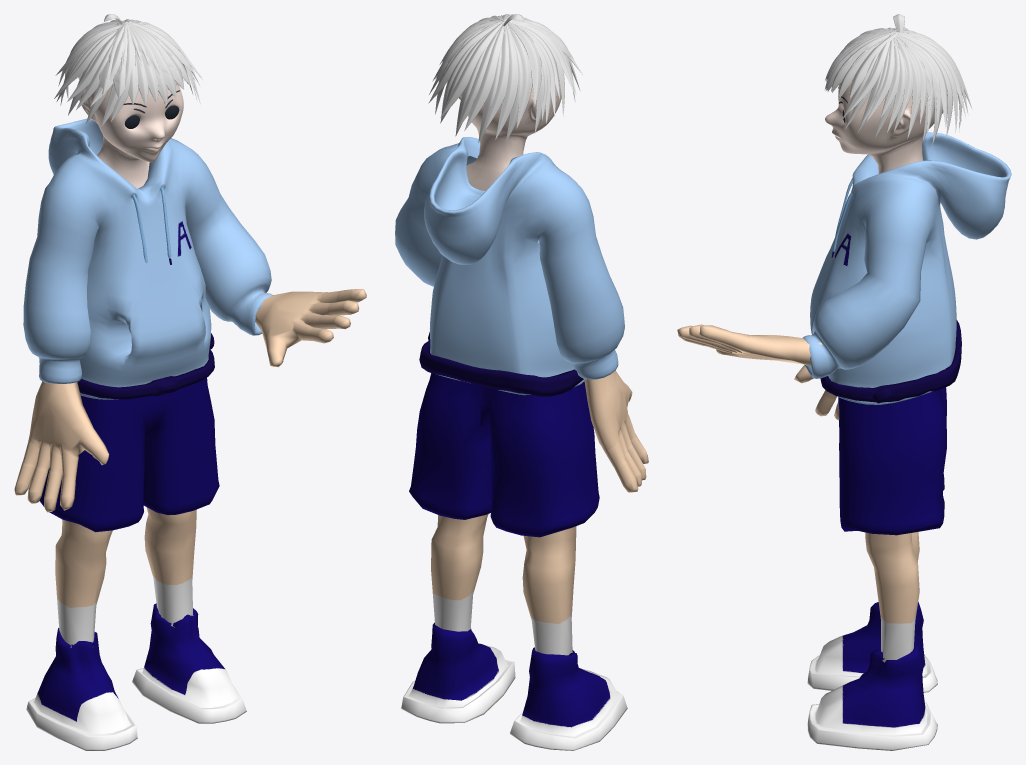
File: Aqua_Exhibit.glb
3 views of the same model, side by side, from view 1: azimuth 30°, elevation 25°; view 2: azimuth 150°, elevation 25°; view 3: azimuth 270°, elevation 25° (orthographic). The views are drawn at different scales.
Parts seen in each view (by area): view 1: Aqua_Body_Hood_Exhibit, Aqua_Body_Pants_Exhibit, Aqua_Body_Foot_Shoes_Exhibit, Aqua_Hands_Exhibit, Aqua_Body_Legs_Exhibit, Aqua_Head_Exhibit, Aqua_Body_Band_Exhibit; view 2: Aqua_Body_Hood_Exhibit, Aqua_Body_Pants_Exhibit, Aqua_Body_Foot_Shoes_Exhibit, Aqua_Body_Legs_Exhibit, Aqua_Hands_Exhibit, Aqua_Head_Exhibit, Aqua_Body_Band_Exhibit, Aqua_Hair_Lengh_Back_K_Exhibit, Aqua_Hair_Lengh_Back_J_Exhibit, Aqua_Hair_Lengh_Back_D_Exhibit, Aqua_Hair_Lengh_Back_I_Exhibit, Aqua_Hair_Lengh_Back_M_Exhibit (+7 smaller); view 3: Aqua_Body_Hood_Exhibit, Aqua_Body_Pants_Exhibit, Aqua_Body_Foot_Shoes_Exhibit, Aqua_Body_Legs_Exhibit, Aqua_Head_Exhibit, Aqua_Hands_Exhibit, Aqua_Body_Band_Exhibit.
Part boxes in pixels (x1,y1,x2,y2): Aqua_Body_Hood_Exhibit: [23, 118, 273, 399]; Aqua_Body_Pants_Exhibit: [39, 377, 219, 532]; Aqua_Body_Foot_Shoes_Exhibit: [26, 603, 246, 750]; Aqua_Hands_Exhibit: [14, 289, 366, 512]; Aqua_Body_Legs_Exhibit: [55, 507, 196, 647]; Aqua_Head_Exhibit: [79, 82, 183, 188]; Aqua_Body_Band_Exhibit: [77, 333, 214, 399]; Aqua_Body_Hood_Exhibit: [395, 137, 624, 395]; Aqua_Body_Pants_Exhibit: [409, 373, 599, 537]; Aqua_Body_Foot_Shoes_Exhibit: [401, 622, 627, 750]; Aqua_Body_Legs_Exhibit: [431, 514, 576, 655]; Aqua_Hands_Exhibit: [584, 370, 648, 492]; Aqua_Head_Exhibit: [459, 79, 561, 191]; Aqua_Body_Band_Exhibit: [419, 332, 583, 396]; Aqua_Hair_Lengh_Back_K_Exhibit: [495, 24, 518, 139]; Aqua_Hair_Lengh_Back_J_Exhibit: [464, 22, 504, 130]; Aqua_Hair_Lengh_Back_D_Exhibit: [440, 23, 501, 117]; Aqua_Hair_Lengh_Back_I_Exhibit: [485, 22, 509, 129]; Aqua_Hair_Lengh_Back_M_Exhibit: [507, 21, 541, 106]; Aqua_Body_Hood_Exhibit: [803, 132, 1011, 404]; Aqua_Body_Pants_Exhibit: [838, 387, 946, 535]; Aqua_Body_Foot_Shoes_Exhibit: [807, 602, 937, 750]; Aqua_Body_Legs_Exhibit: [865, 532, 919, 662]; Aqua_Head_Exhibit: [825, 83, 943, 173]; Aqua_Hands_Exhibit: [677, 324, 839, 420]; Aqua_Body_Band_Exhibit: [820, 320, 961, 403].
Bounding box in the file's own units: 5.26 × 13.18 × 5.82.
9 materials, 7 textured.
